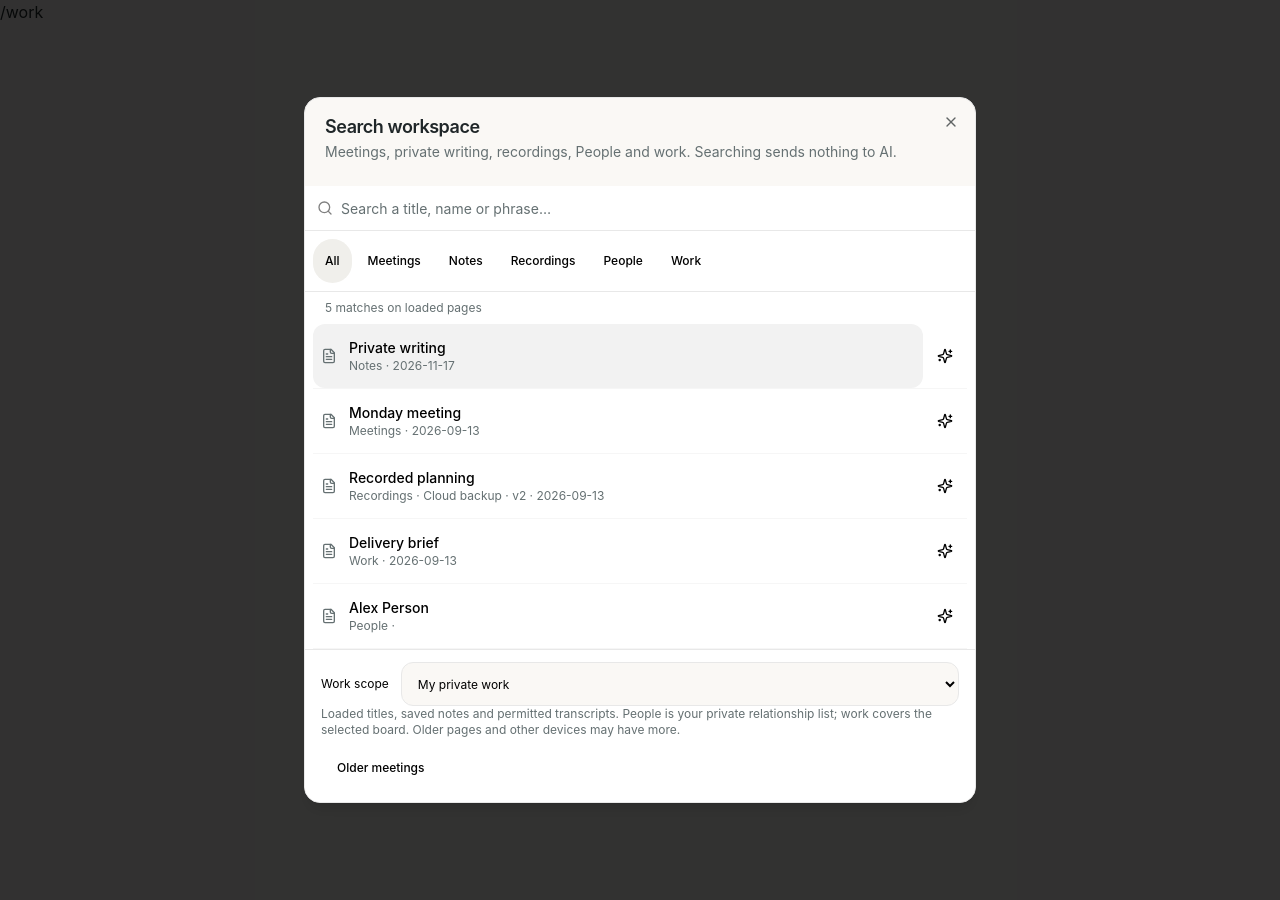
Test: workspace command palette › keeps earlier results after an older-page error and offers retry
The image size is (1280, 900).
Expected: the text "Monday meeting" is shown, top-left (349, 403), bottom-right (480, 423)
Click the button "Older meetings" at (381, 768), box top-left (321, 746), bottom-right (440, 790)
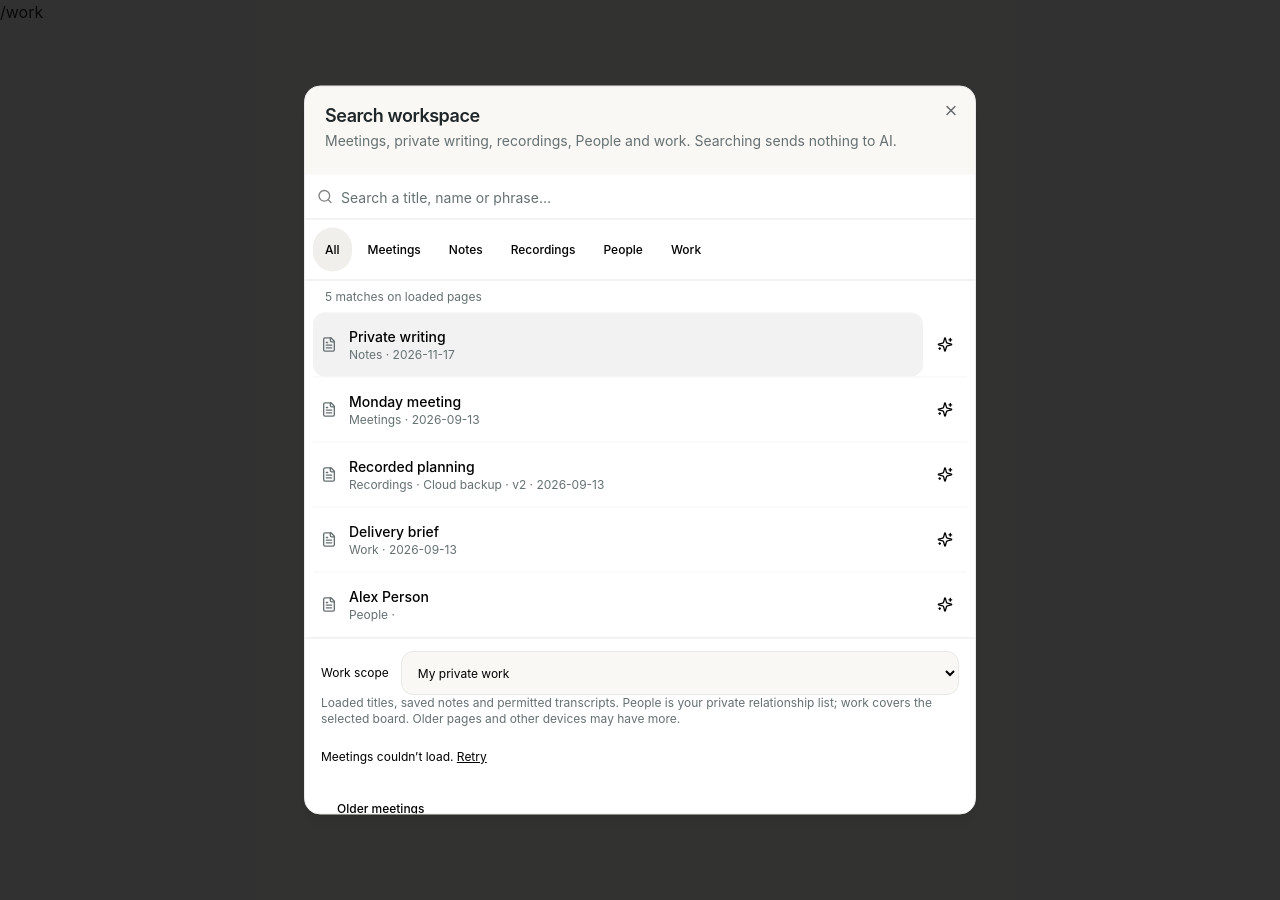
Expected: the text "Monday meeting" is shown, top-left (349, 392), bottom-right (480, 412)
Expected: the text "Meetings couldn’t load. Retry" is shown, top-left (321, 734), bottom-right (487, 778)
